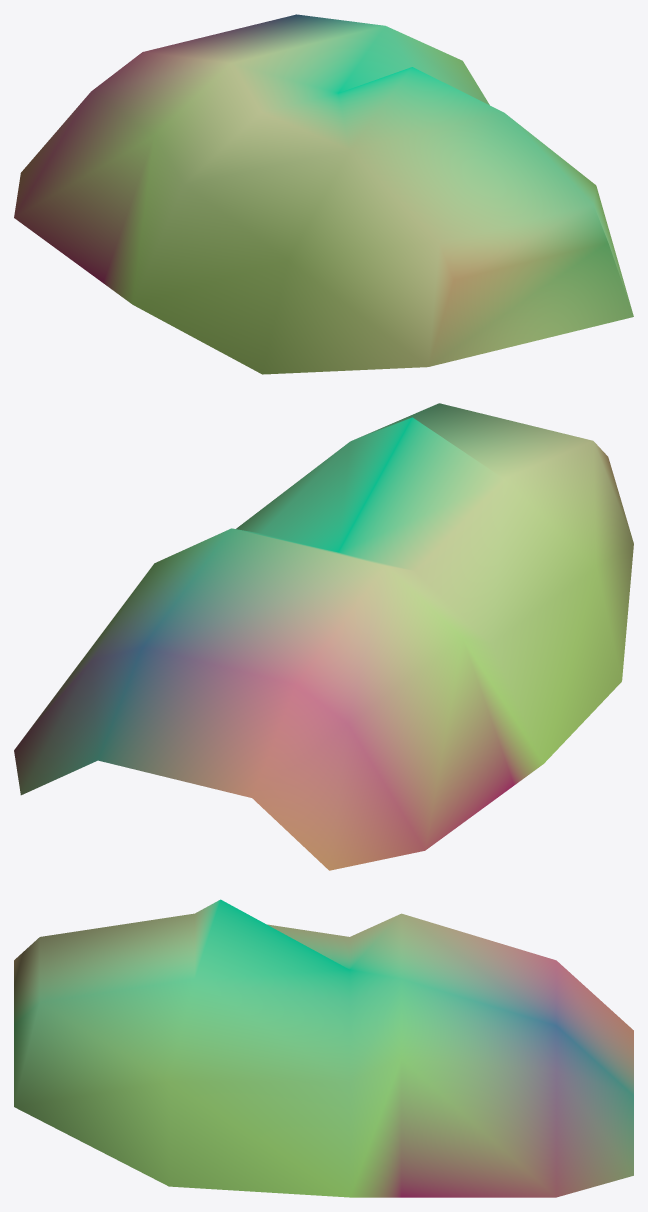
3 views of the same model, one above another, from view 1: azimuth 30°, elevation 25°; view 2: azimuth 150°, elevation 25°; view 3: azimuth 270°, elevation 25° (orthographic). The views are drawn at different scales.
Visible parts, largest first — view 1: part; view 2: part; view 3: part.
Boxes of the visible parts, x1=… form: part: x1=14, y1=14, x2=633, y2=374; part: x1=14, y1=403, x2=633, y2=870; part: x1=14, y1=899, x2=633, y2=1197.
Bounding box in the file's own units: 16 × 9 × 24.
